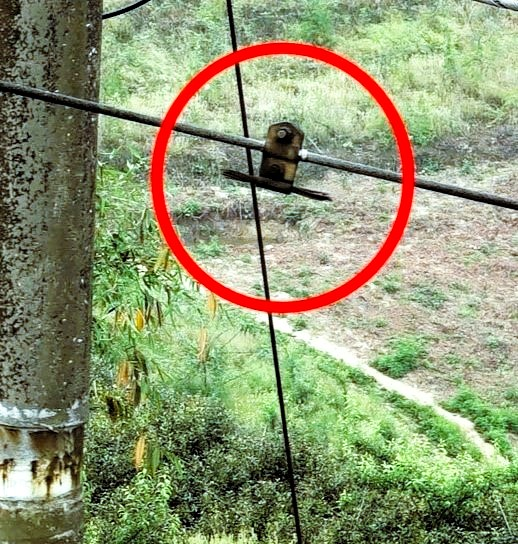Damage of shockproof hammer: (212, 118, 346, 209)
